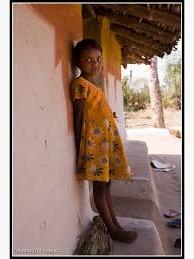Human: (64, 36, 153, 248)
